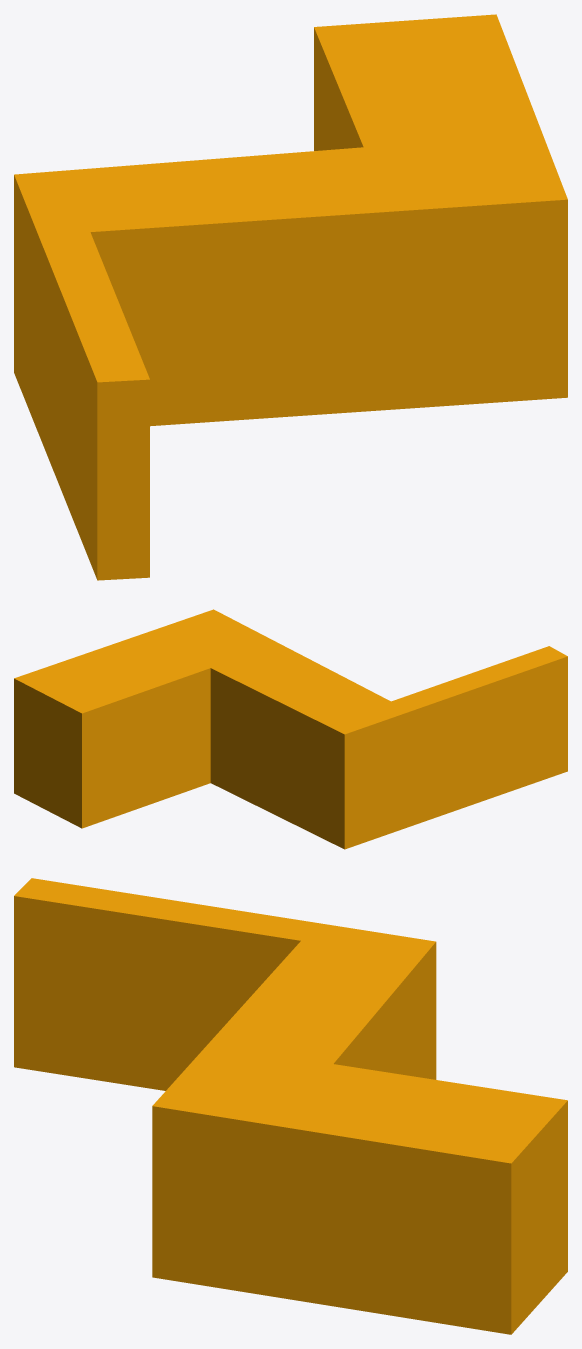
File: DEHB01ALn0001OCs.gltf
3 renders of one model, top to bottom at view 1: azimuth 30°, elevation 25°; view 2: azimuth 150°, elevation 25°; view 3: azimuth 270°, elevation 25°, orthographic. The views are drawn at different scales.
Visible parts, largest first — view 1: Z_UP; view 2: Z_UP; view 3: Z_UP.
Boxes of the visible parts, <box> form: Z_UP: <box>14,14,567,580</box>; Z_UP: <box>14,609,567,849</box>; Z_UP: <box>14,878,567,1334</box>.
Bounding box in the file's own units: 14.86 × 4.16 × 12.19.
